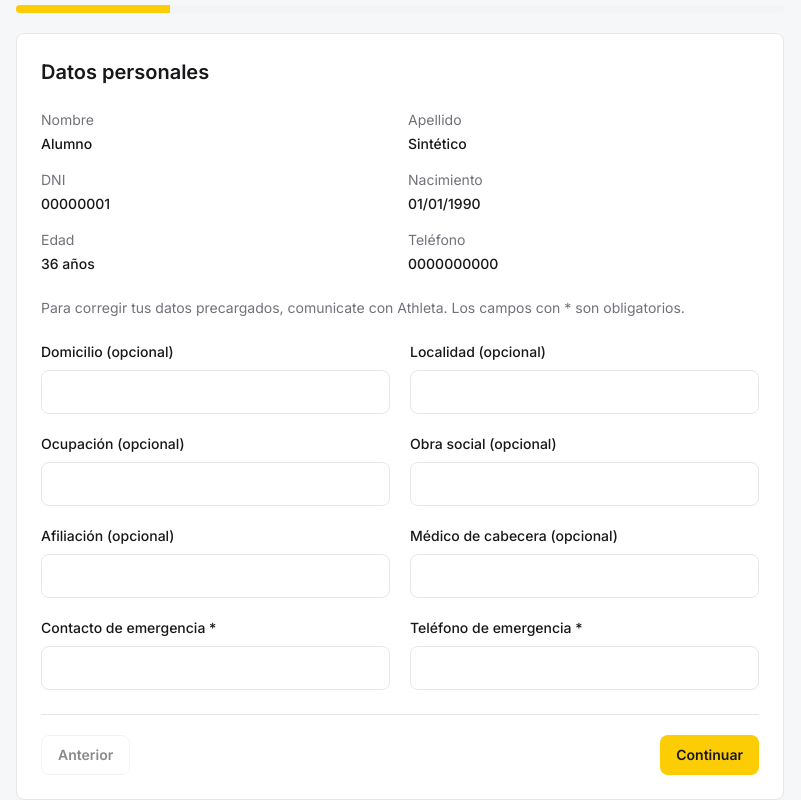
Test: shows required field errors next to the answers and keeps the first step
(page scrolled)
Click the button "Continuar" at point(710, 755), box [660,735,759,775]
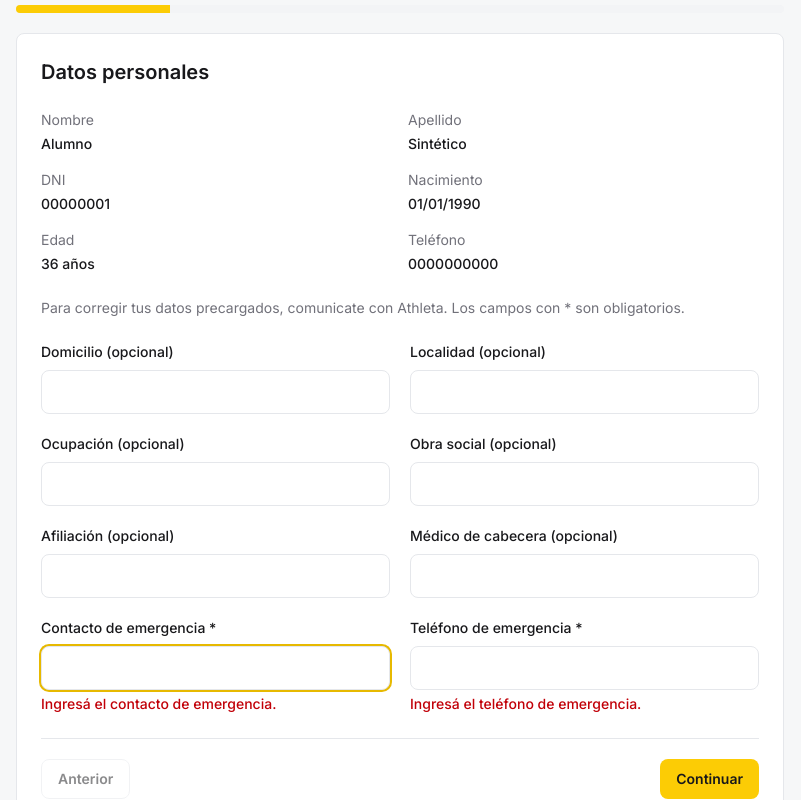
Expected: the text "Ingresá el contacto de emergencia." is shown, [41,695,276,712]
